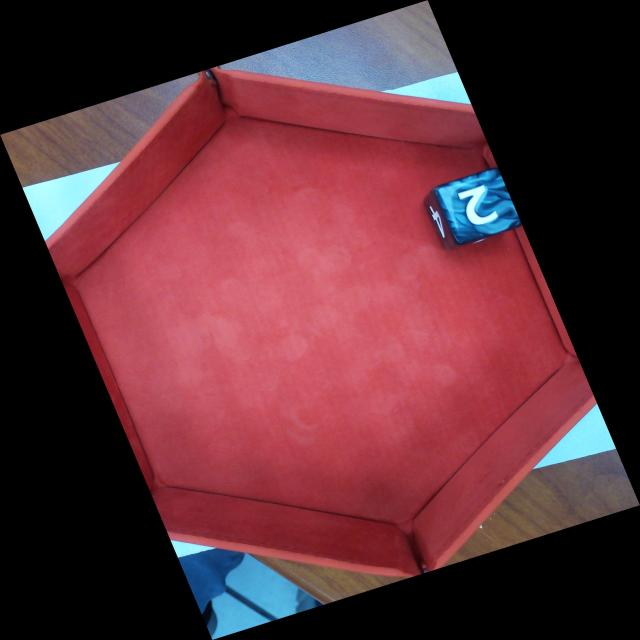dice: (447, 167, 520, 239)
